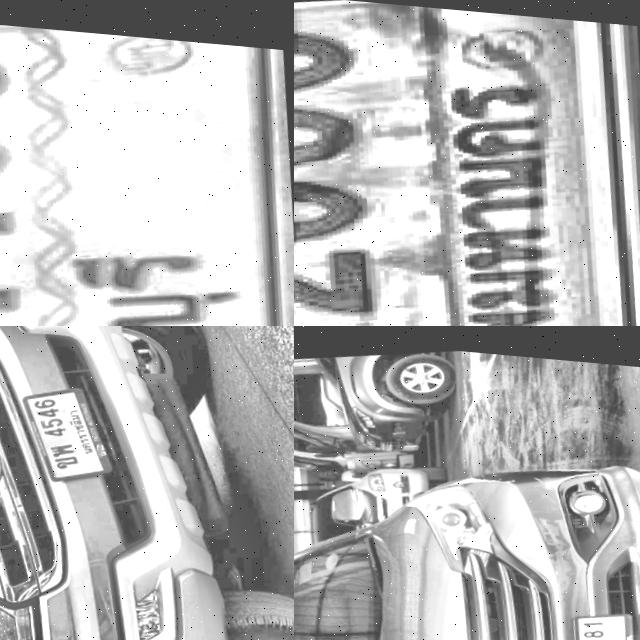license-plate: (294, 0, 640, 326), (0, 0, 294, 326), (16, 372, 126, 484), (570, 598, 640, 640)
